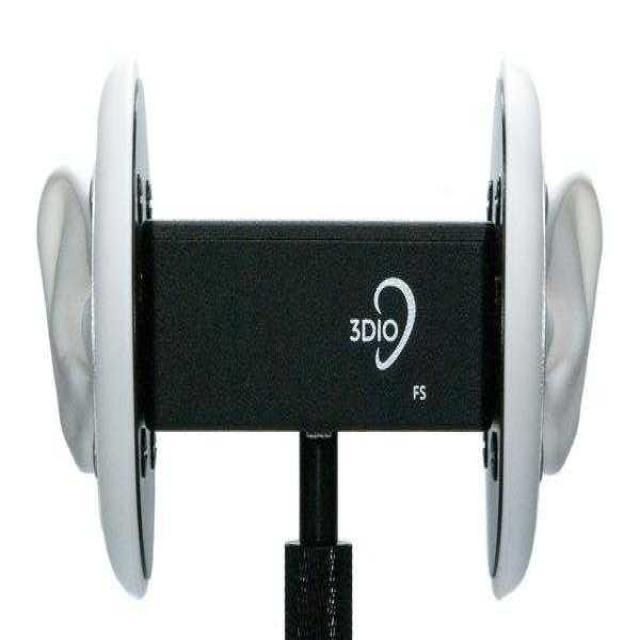microphone: (45, 51, 599, 604)
